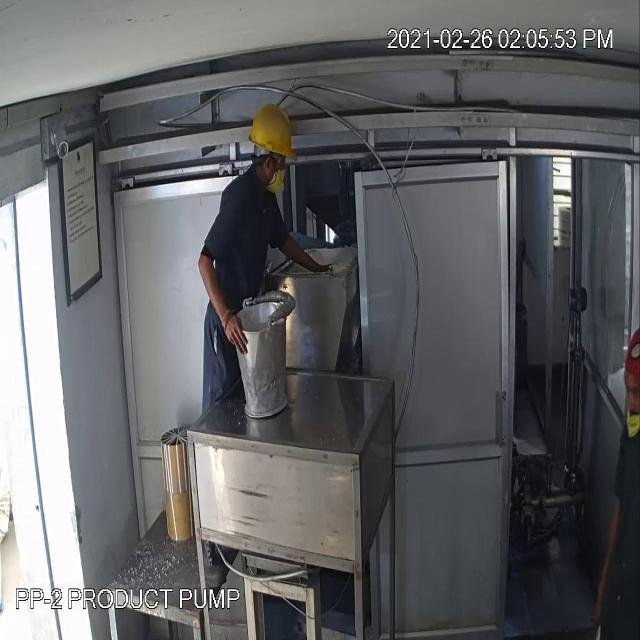helmet: (240, 96, 303, 173)
